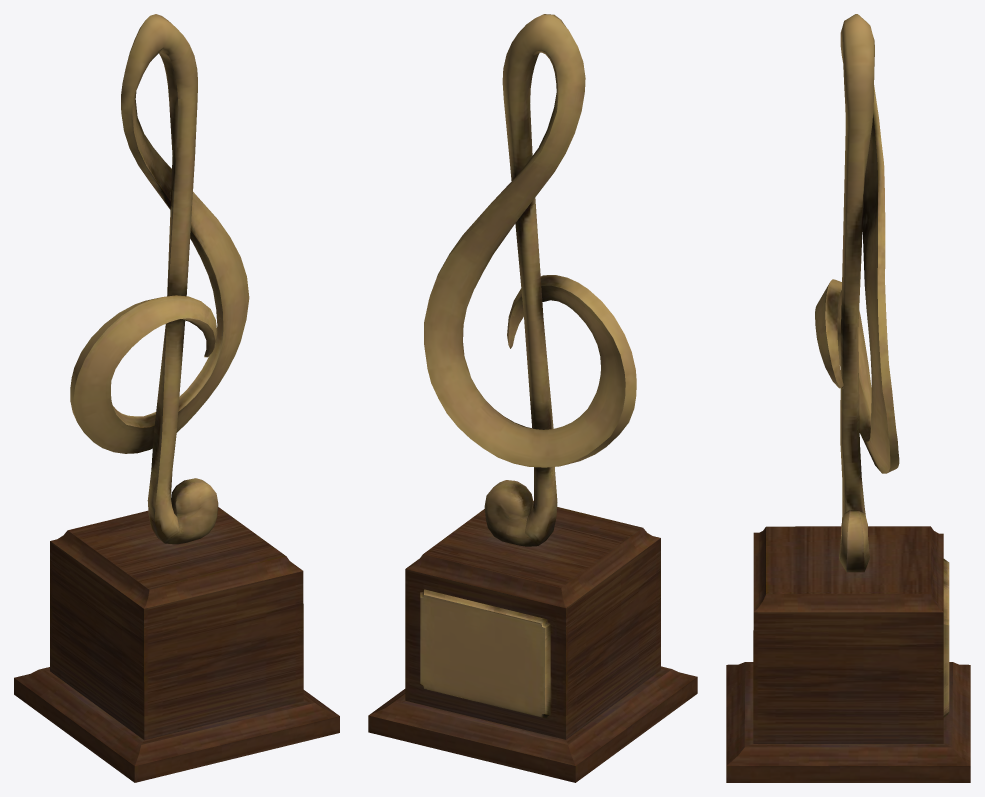
The model's file is trophy-music-trophy.glb.
3 renders of one model, left to right at view 1: azimuth 30°, elevation 25°; view 2: azimuth 150°, elevation 25°; view 3: azimuth 270°, elevation 25°, orthographic.
Bounding box in the file's own units: 0.7373 × 2.4 × 0.7506.
Materials: 1 (1 with a texture image).
